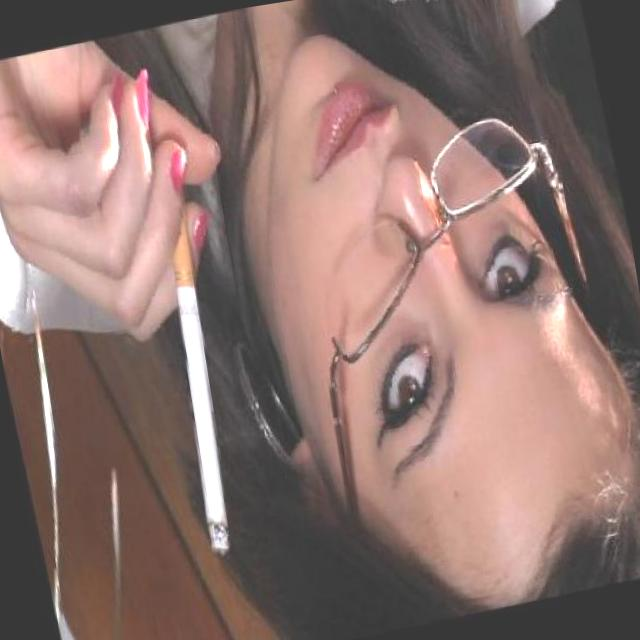smoke: (136, 192, 261, 562)
